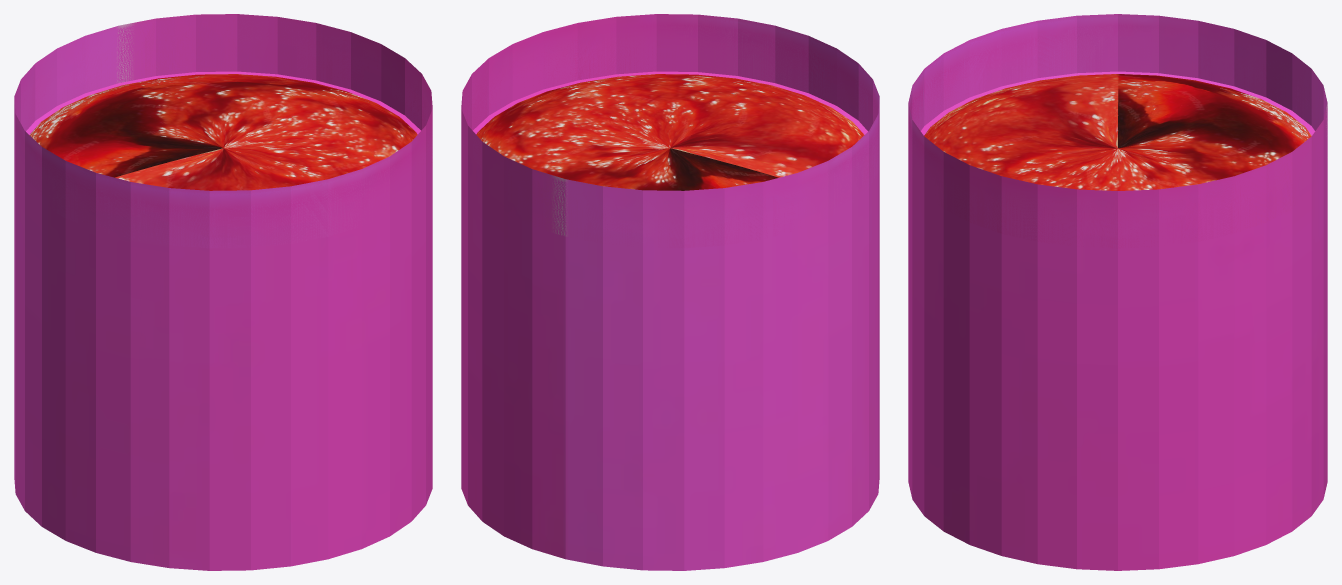
The model's file is bote-desalsa-roja.glb.
The picture shows the model from 3 angles, left to right: view 1: azimuth 30°, elevation 25°; view 2: azimuth 150°, elevation 25°; view 3: azimuth 270°, elevation 25°; orthographic projection.
Visible parts, largest first — view 1: Cylinder; view 2: Cylinder; view 3: Cylinder.
Boxes of the visible parts, x1=… form: Cylinder: x1=14, y1=14, x2=432, y2=570; Cylinder: x1=461, y1=14, x2=879, y2=570; Cylinder: x1=908, y1=14, x2=1327, y2=570.
Size of the model in its own units: 2 by 2 by 2.
2 materials, 2 textured.
